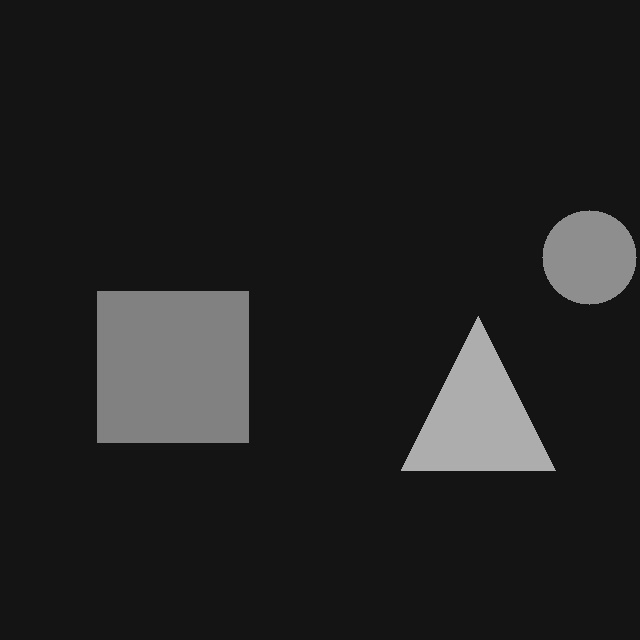circle: (542, 210, 636, 304)
square: (97, 291, 248, 442)
triangle: (401, 316, 555, 470)
